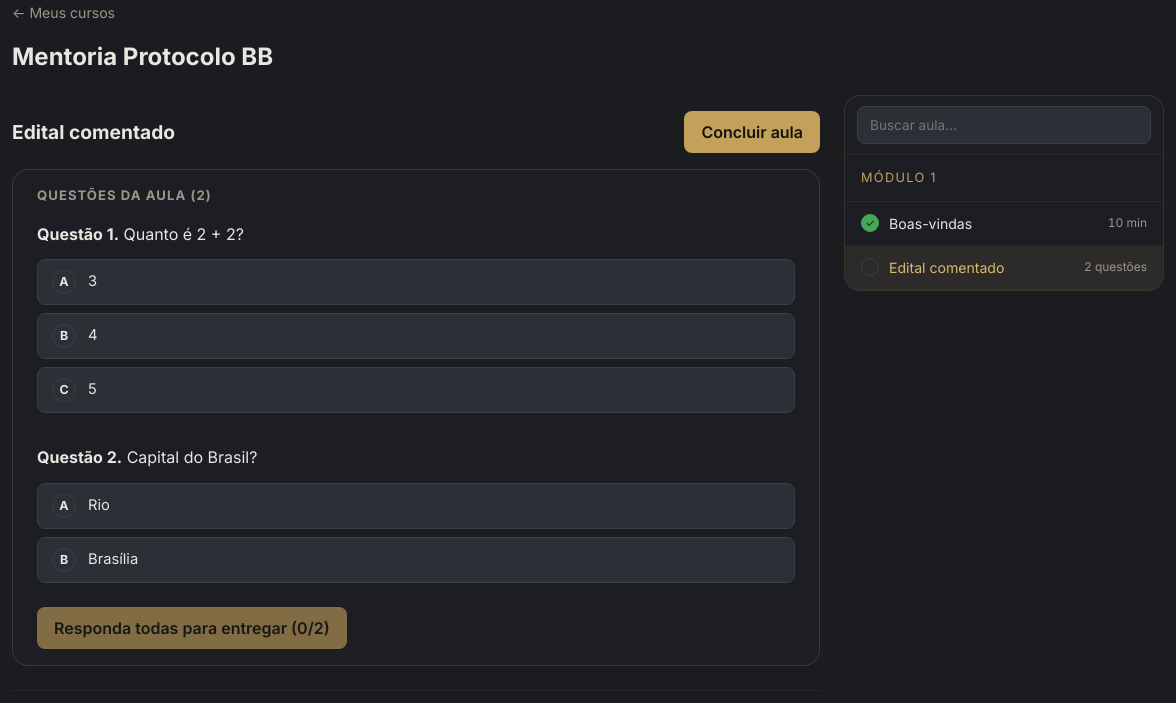
it: CursoPage › aula com questoes rende o simulado e entrega mostra o gabarito
Expected: the heading "Questões da aula (2)" is shown, [37,186,212,206]
Expected: the text "Questão 1. Quanto é 2 + 2?" is shown, [37,224,244,244]
Note: Responde as duas e entrega.
What coordinates should you click on to do the following:
click the radio button labelled "B 4"
I would click on:
 (64, 336)
Its box is [37,313,795,359].
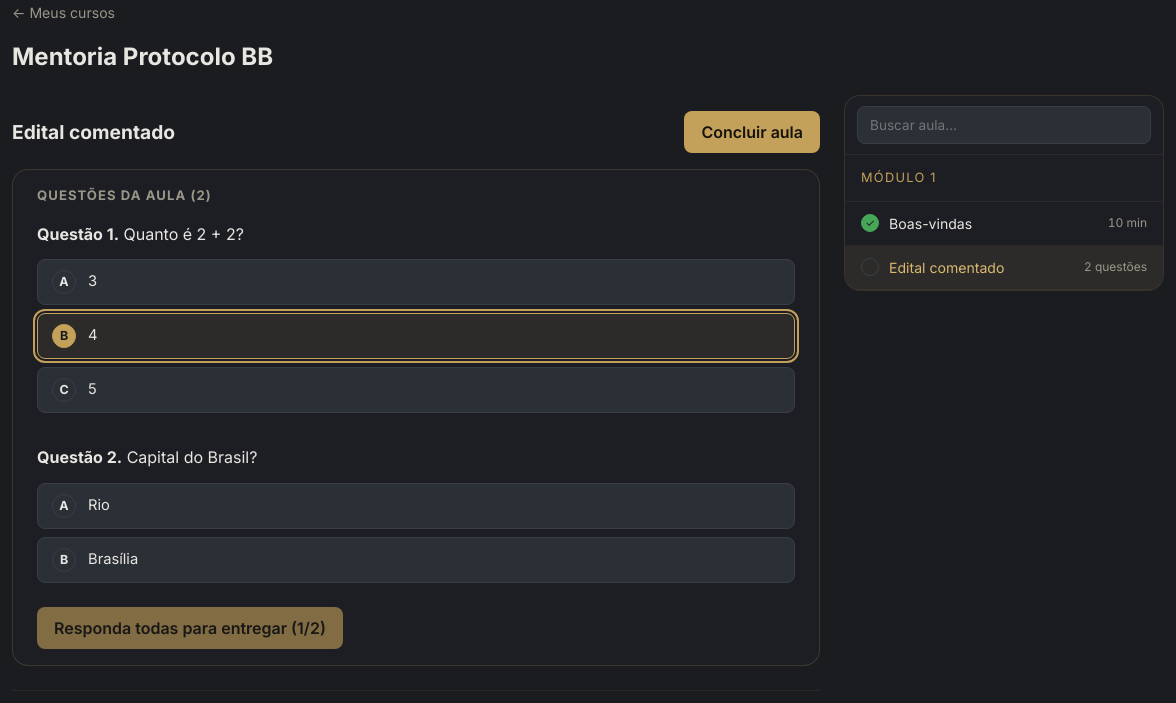
What coordinates should you click on to do the following:
click the radio button labelled "B Brasília"
I would click on:
 (113, 559)
Its box is [37,537,795,583].
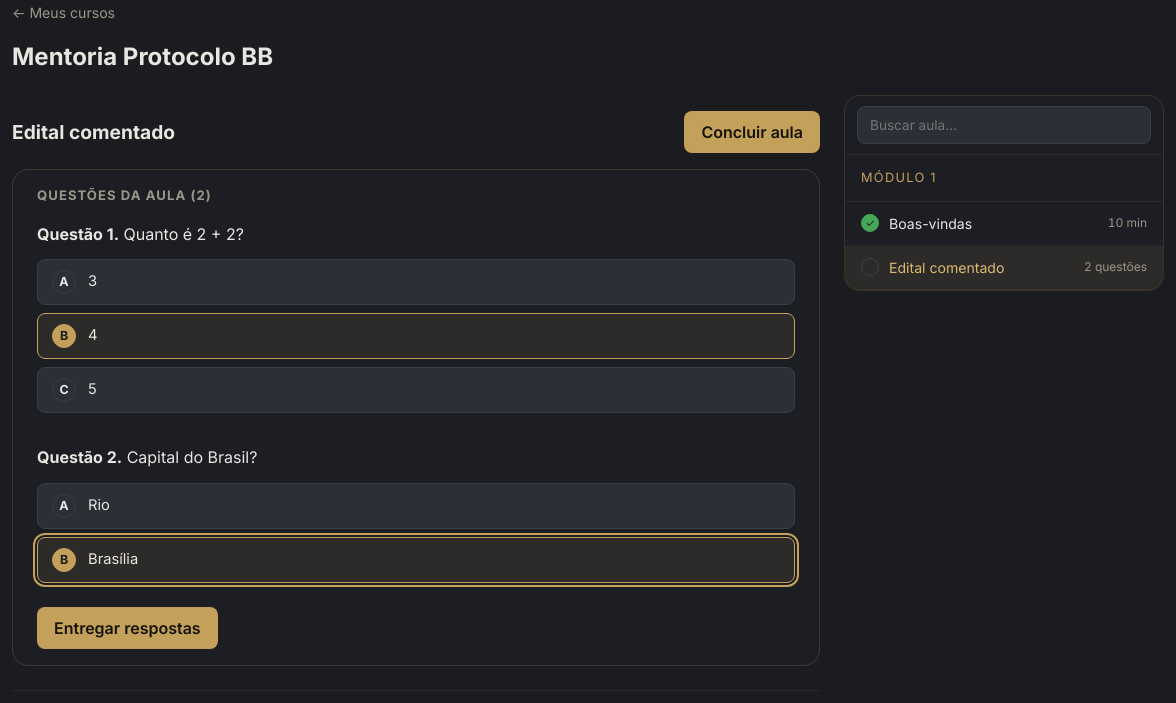
What coordinates should you click on to do the following:
click the button "Entregar respostas"
I would click on:
 (127, 628)
Its box is [37,607,218,649].
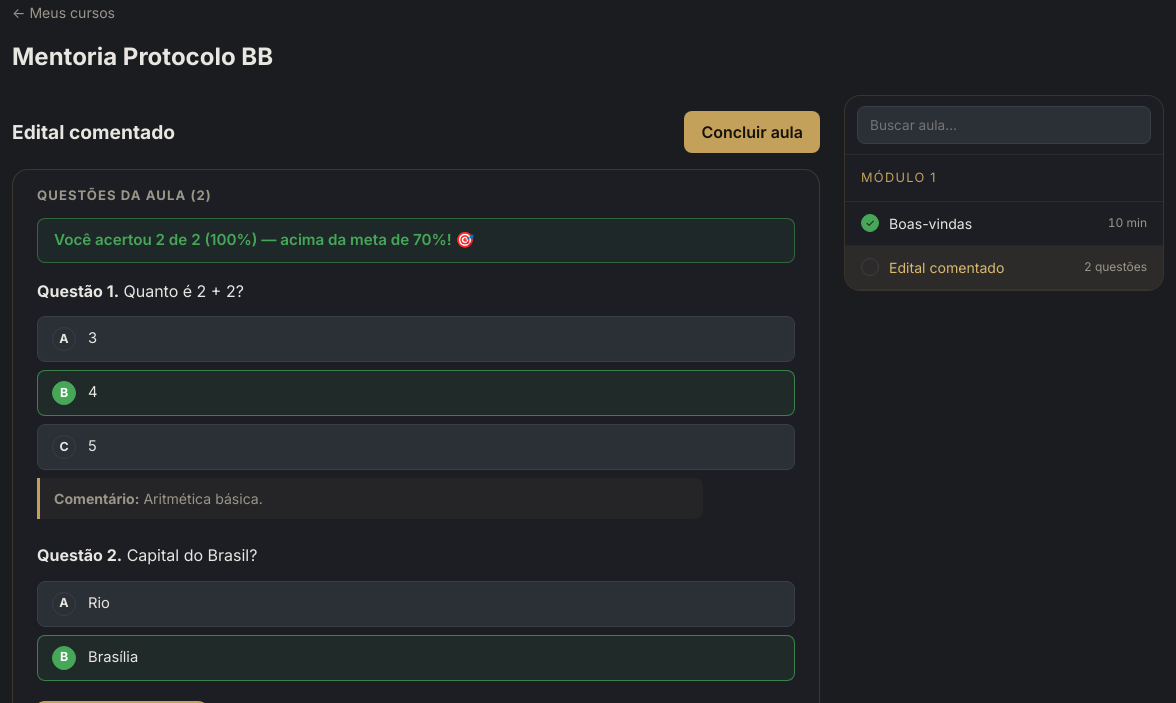
Expected: the text "Você acertou 2 de 2 (100%) — acima da meta de 70%! 🎯" is shown, [37,218,795,262]
Expected: the text "Comentário: Aritmética básica." is shown, [37,478,703,519]
